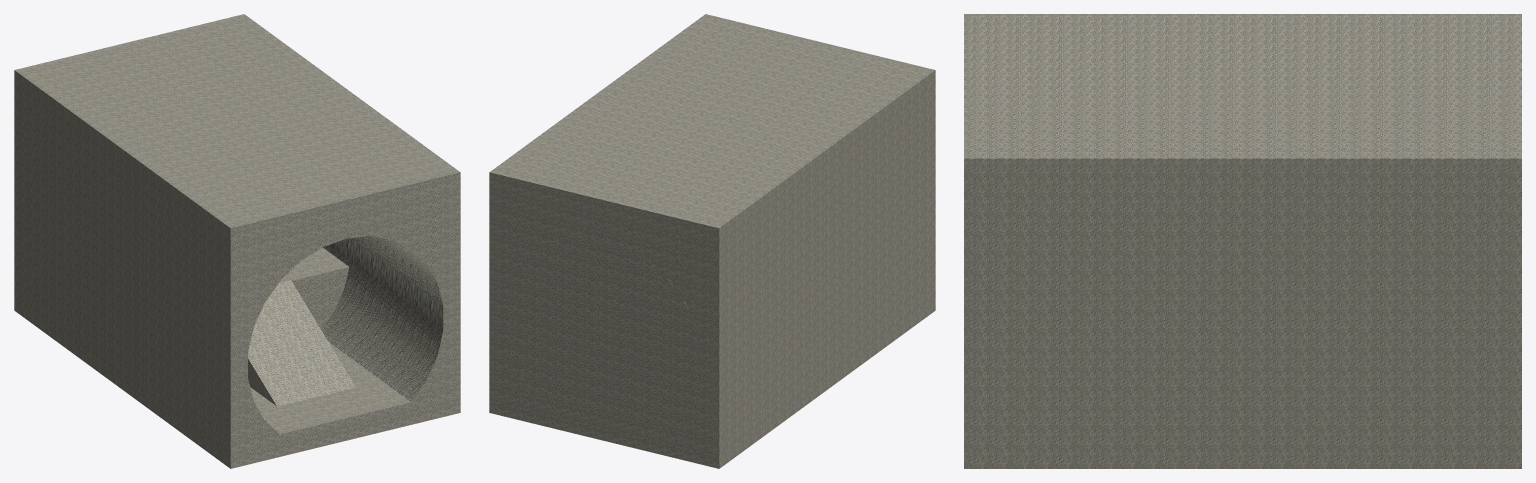
Rendered from ExcavThreeStepPreserveCore5.glb.
The picture shows the model from 3 angles, left to right: view 1: azimuth 30°, elevation 25°; view 2: azimuth 150°, elevation 25°; view 3: azimuth 270°, elevation 25°; orthographic projection. The views are drawn at different scales.
Size of the model in its own units: 16 by 16 by 26.08.
Materials: 1 (1 with a texture image).
